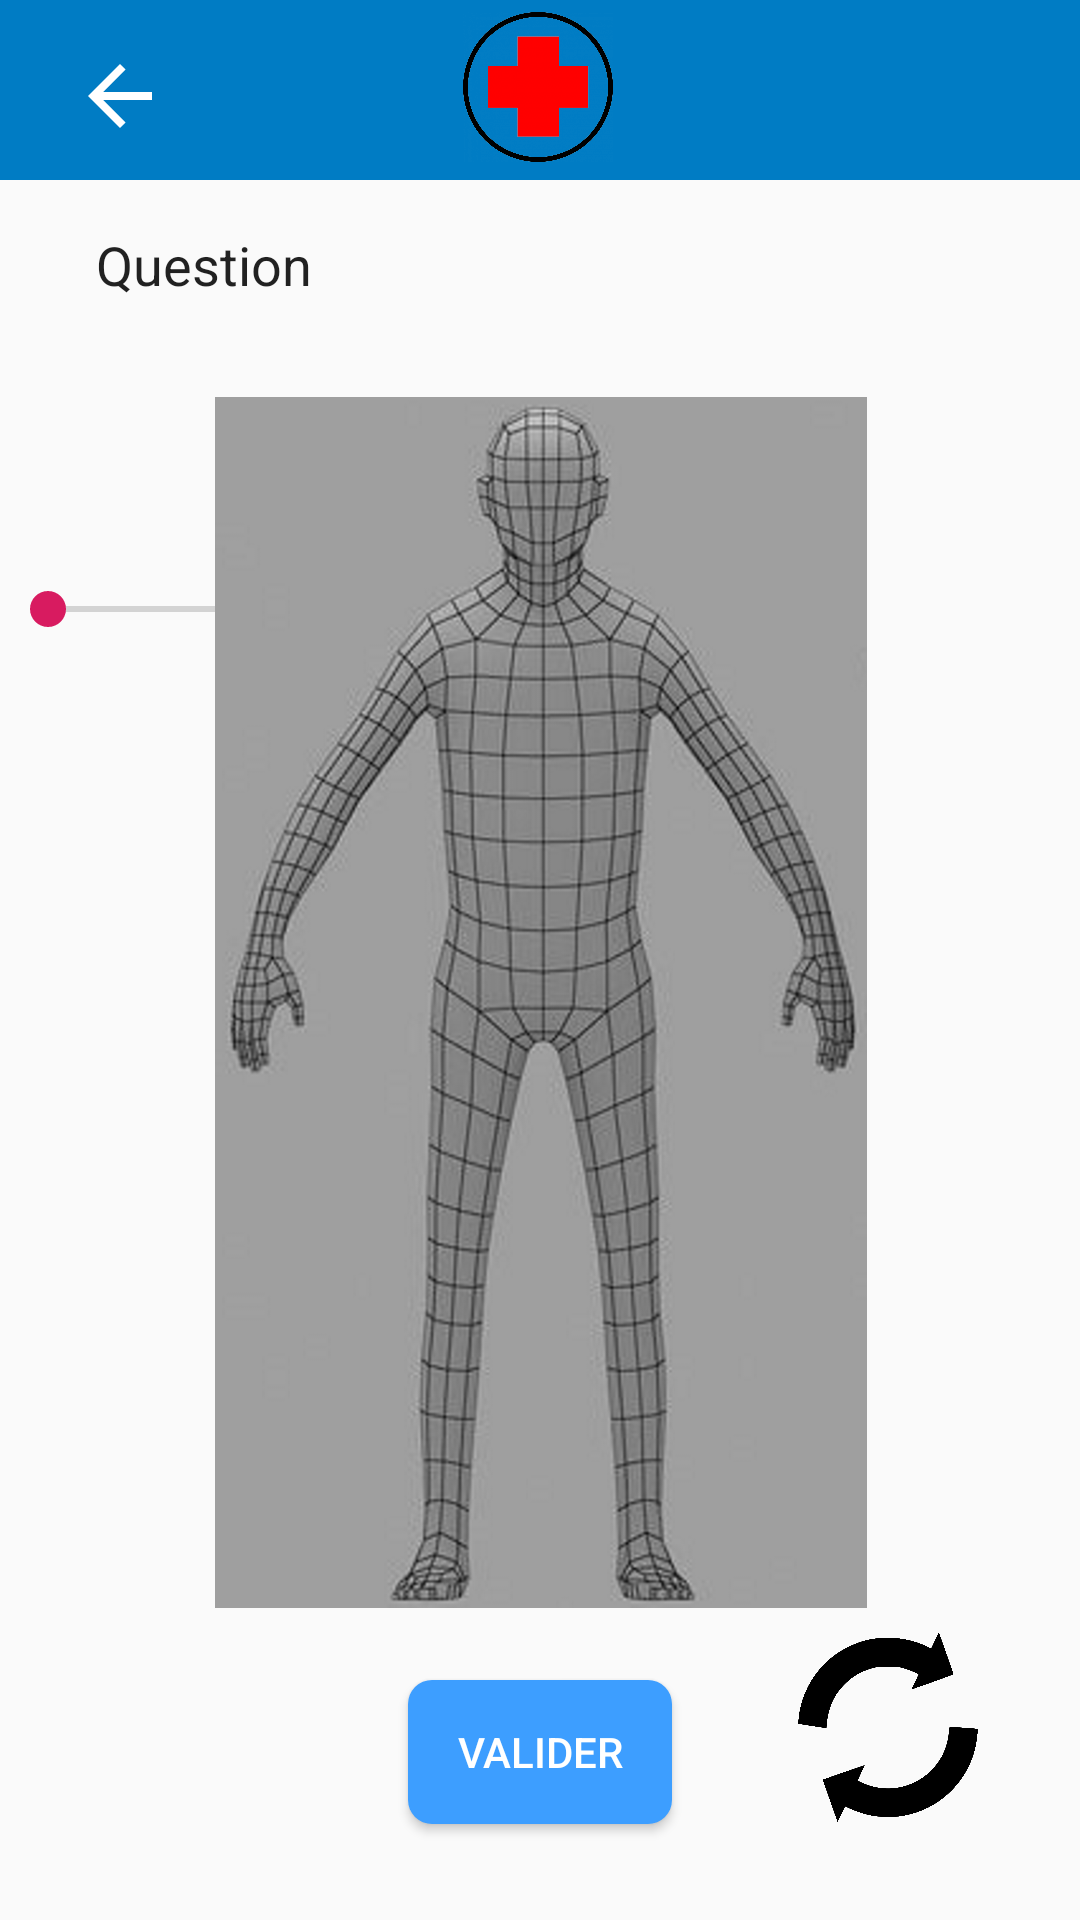

Screen size 1080 × 1920. Icon name, then its box in pixels as box=[x1, y1, x2, y2]:
rotation: box=[798, 1633, 978, 1822]
